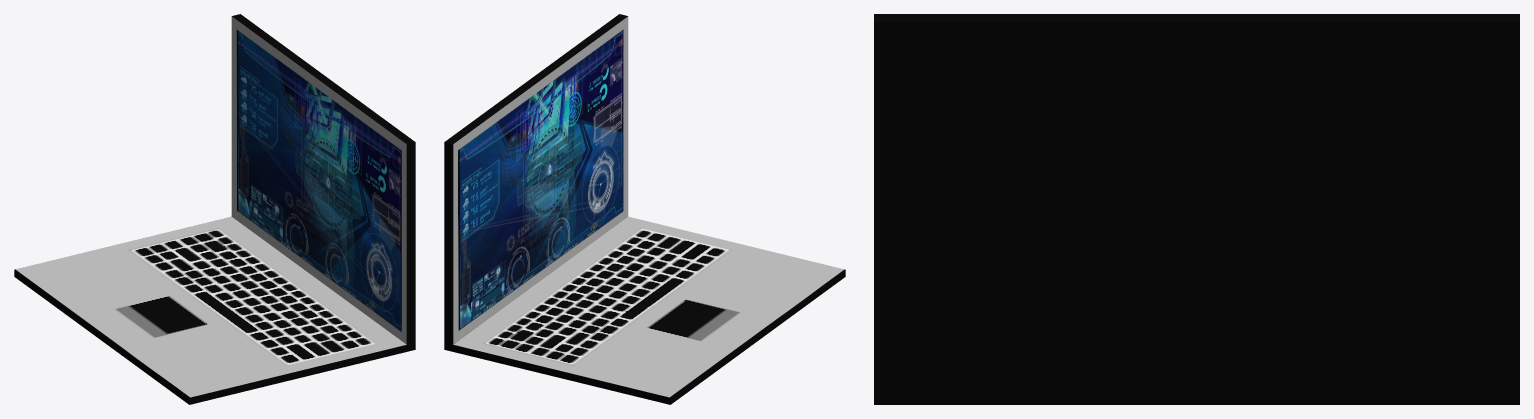
Rendered from Laptop_GenMain4.fbx.
3 renders of one model, left to right at view 1: azimuth 30°, elevation 25°; view 2: azimuth 150°, elevation 25°; view 3: azimuth 270°, elevation 25°, orthographic. The views are drawn at different scales.
Visible parts, largest first — view 1: Laptop; view 2: Laptop; view 3: Laptop.
Boxes of the visible parts, <box> form: Laptop: <box>14,14,415,404</box>; Laptop: <box>444,14,845,404</box>; Laptop: <box>874,14,1519,404</box>.
Size of the model in its own units: 42.42 by 37.21 by 56.87.
